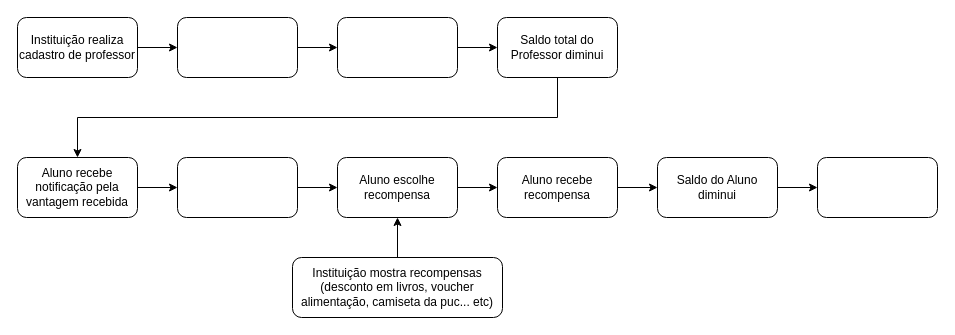
Image size: 955x335. Some labels were removed from this diagram. The box of each missing label's shape, as (x1, y1, x2, y2) in pixels:
Aluno verifica saldo: (176, 156, 298, 218)
Novo saldo deve aparecer na tela do Aluno: (816, 156, 938, 218)
Professor distribui vantagem para aluno: (336, 16, 458, 78)
Professor verifica saldo: (176, 16, 298, 78)
